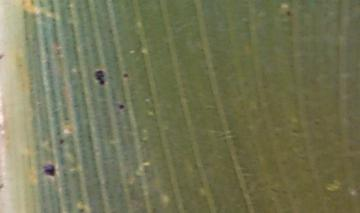tarspot: (92, 68, 108, 89), (41, 162, 56, 177), (1, 50, 9, 62), (285, 8, 293, 18), (75, 206, 86, 213), (58, 137, 66, 146), (121, 72, 129, 79), (118, 104, 124, 111), (1, 182, 6, 190)
